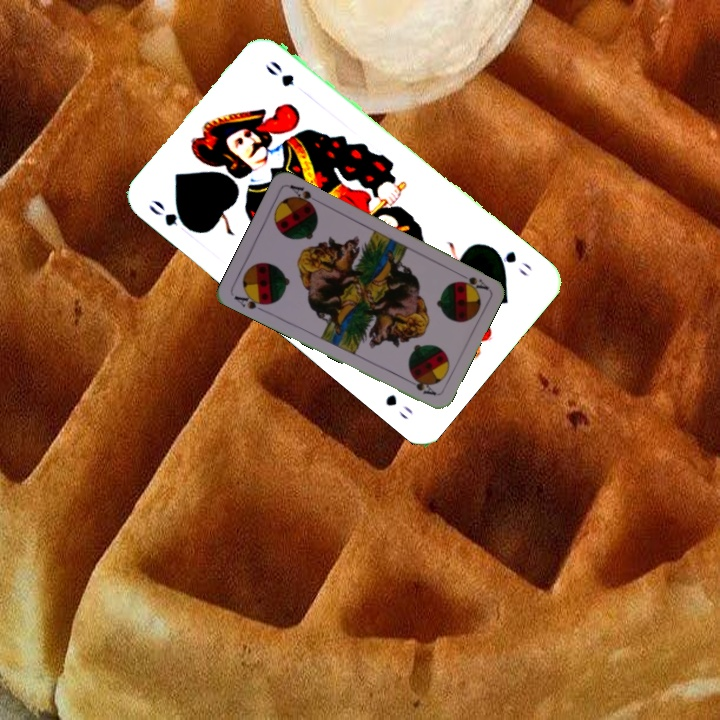GO: (144, 195, 198, 235), (486, 243, 534, 279)
SA: (230, 288, 271, 315), (452, 268, 491, 292)
